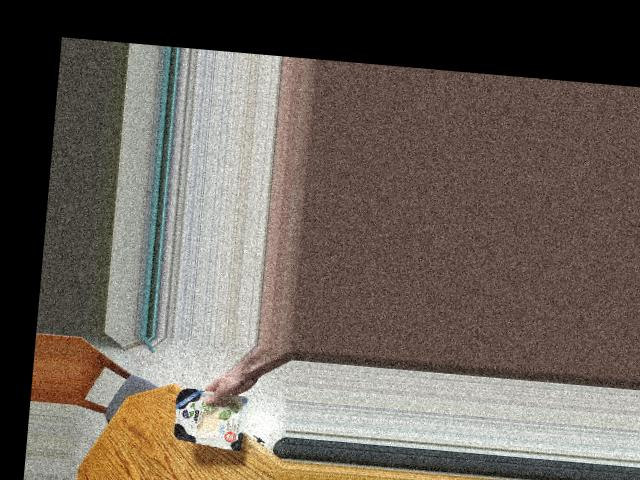cheese: (160, 389, 260, 452)
